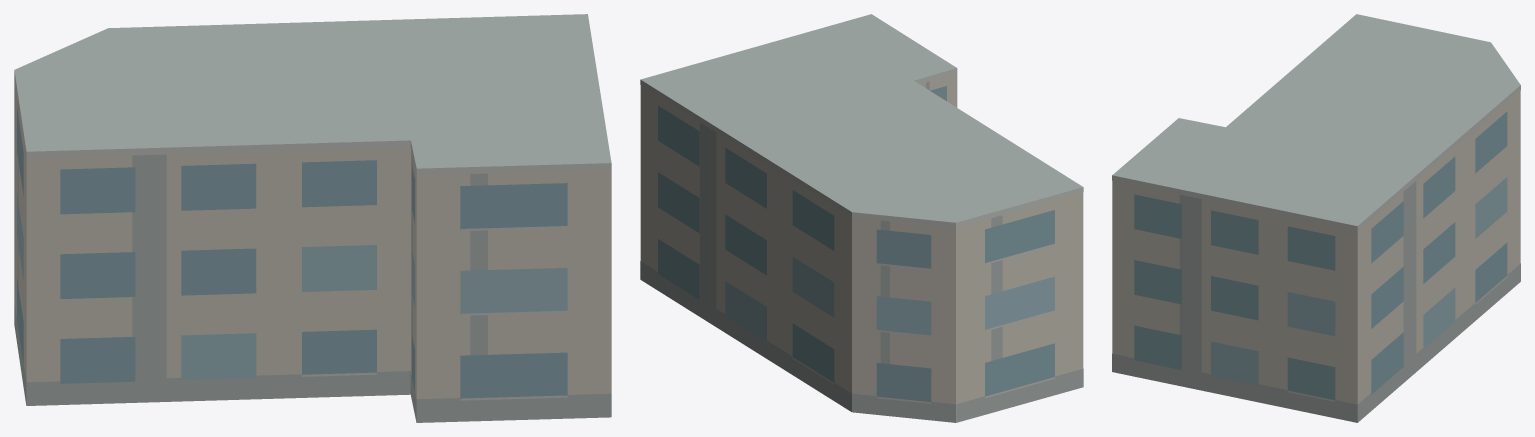
Rendered from residential-cbdeae78-adb9-4ee8-9679-1b134eedb93b.glb.
3 views of the same model, side by side, from view 1: azimuth 30°, elevation 25°; view 2: azimuth 150°, elevation 25°; view 3: azimuth 270°, elevation 25° (orthographic). The views are drawn at different scales.
Visible parts, largest first — view 1: residential-cbdeae78-adb9-4ee8-9679-1b134eedb93b.tmp; view 2: residential-cbdeae78-adb9-4ee8-9679-1b134eedb93b.tmp; view 3: residential-cbdeae78-adb9-4ee8-9679-1b134eedb93b.tmp.
Part boxes in pixels (bbox=[...]): residential-cbdeae78-adb9-4ee8-9679-1b134eedb93b.tmp: bbox=[14, 14, 611, 422]; residential-cbdeae78-adb9-4ee8-9679-1b134eedb93b.tmp: bbox=[640, 14, 1083, 422]; residential-cbdeae78-adb9-4ee8-9679-1b134eedb93b.tmp: bbox=[1112, 14, 1520, 422].
Size of the model in its own units: 20.83 by 9 by 16.95.
